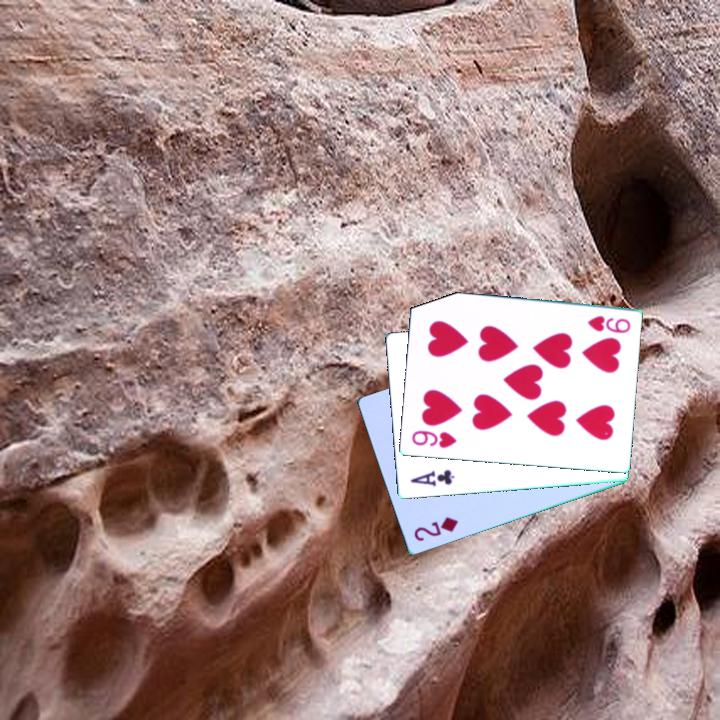2d: (410, 513, 461, 545)
9h: (408, 427, 459, 451), (583, 312, 633, 336)
Ac: (406, 466, 457, 489)
